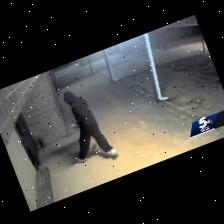person: (64, 92, 118, 162)
